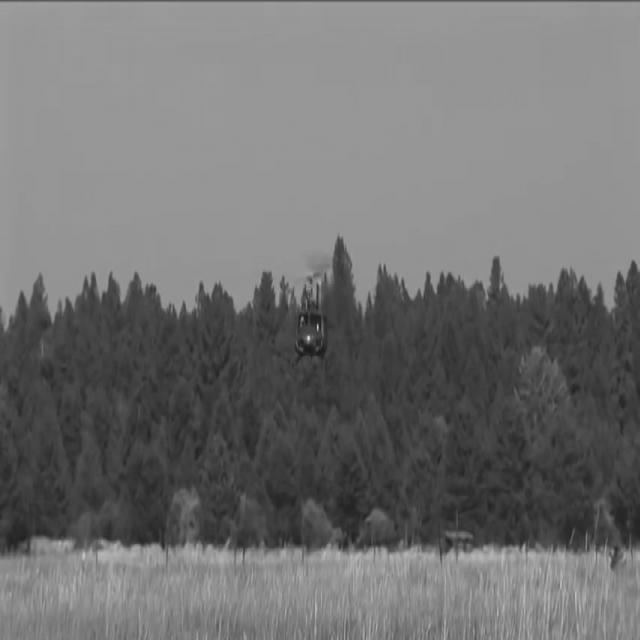helikopter: (266, 266, 354, 391)
